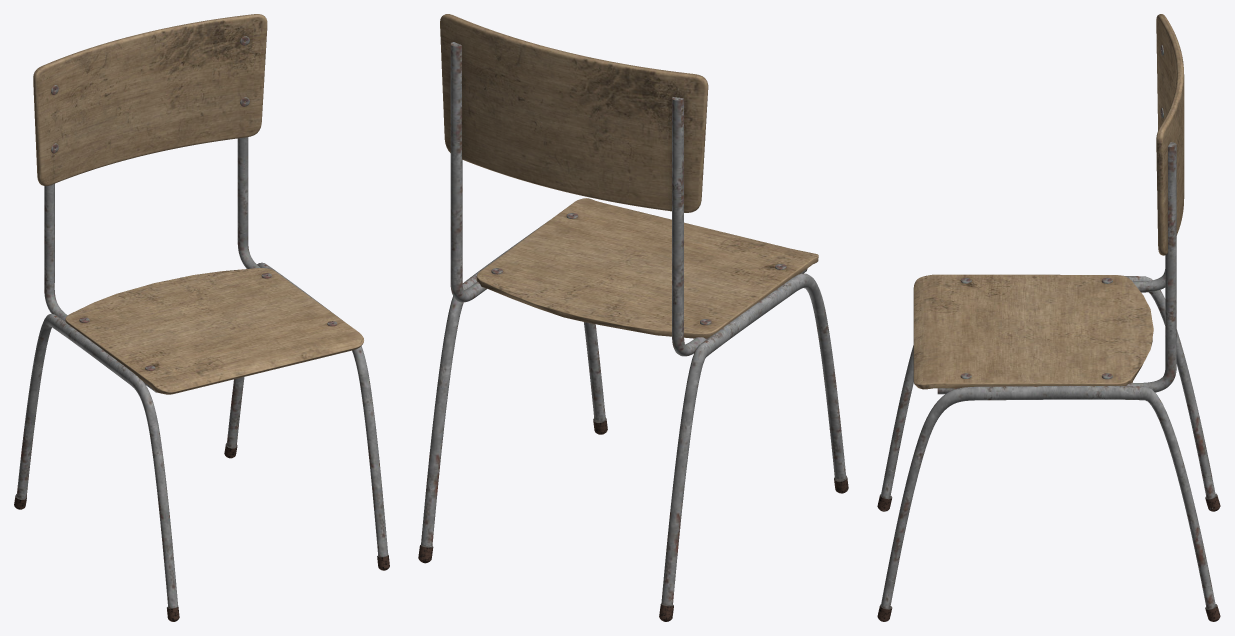
3 views of the same model, side by side, from view 1: azimuth 30°, elevation 25°; view 2: azimuth 150°, elevation 25°; view 3: azimuth 270°, elevation 25° (orthographic). The views are drawn at different scales.
Visible parts, largest first — view 1: Box001, Box002, Loft003, Loft004, Loft006, Loft005; view 2: Box001, Box002, Loft003, Loft004, Loft006, Loft005; view 3: Box002, Loft004, Box001, Loft003, Loft006.
Part boxes in pixels (<box>): Box001: <box>33,14,267,185</box>; Box002: <box>65,268,363,394</box>; Loft003: <box>16,314,178,607</box>; Loft004: <box>226,262,388,556</box>; Loft006: <box>237,137,260,268</box>; Loft005: <box>44,183,156,392</box>; Box001: <box>440,14,708,212</box>; Box002: <box>476,198,818,338</box>; Loft003: <box>661,273,846,605</box>; Loft004: <box>421,221,605,546</box>; Loft006: <box>450,42,486,302</box>; Loft005: <box>672,97,807,356</box>; Box002: <box>913,274,1153,389</box>; Loft004: <box>881,386,1215,621</box>; Box001: <box>1156,14,1184,255</box>; Loft003: <box>881,275,1215,511</box>; Loft006: <box>937,142,1176,394</box>.
Bounding box in the file's own units: 1.06 × 2 × 1.26.
Materials: 8 (8 with a texture image).
